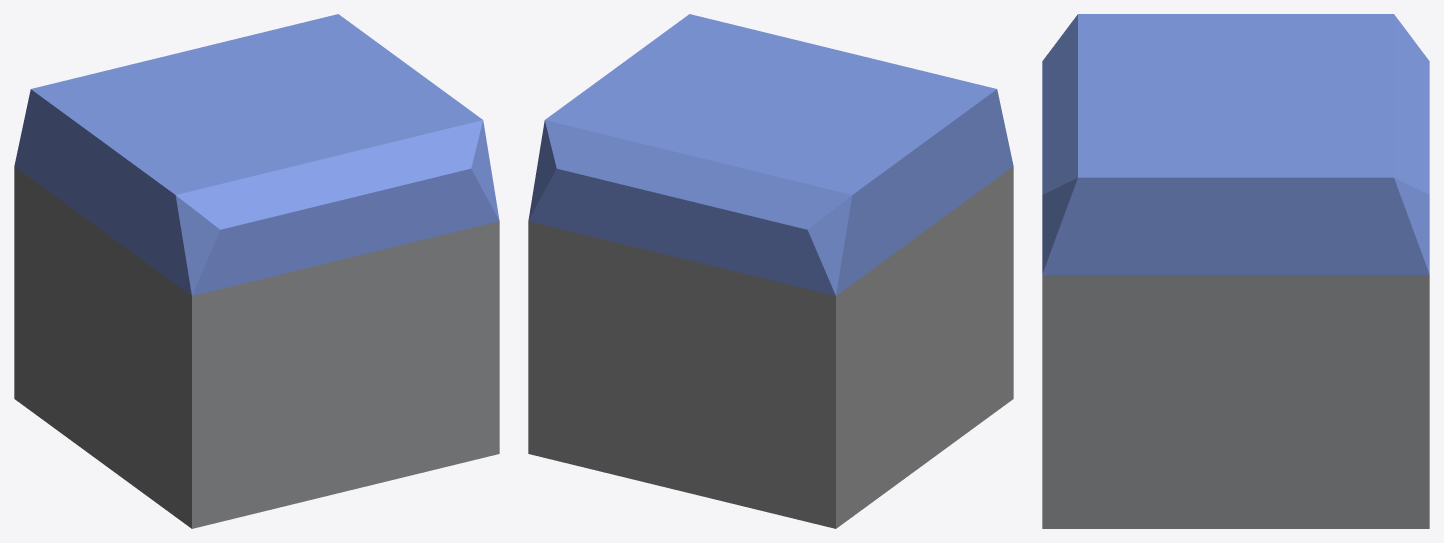
File: wall.fbx
The picture shows the model from 3 angles, left to right: view 1: azimuth 30°, elevation 25°; view 2: azimuth 150°, elevation 25°; view 3: azimuth 270°, elevation 25°; orthographic projection. The views are drawn at different scales.
Parts seen in each view (by area): view 1: Cube.001, Cube; view 2: Cube.001, Cube; view 3: Cube, Cube.001.
Boxes of the visible parts, <box> form: Cube.001: <box>14,166,499,528</box>; Cube: <box>14,14,499,295</box>; Cube.001: <box>528,166,1013,528</box>; Cube: <box>528,14,1013,295</box>; Cube: <box>1042,14,1429,274</box>; Cube.001: <box>1042,275,1429,528</box>.
Size of the model in its own units: 136 by 136 by 136.
